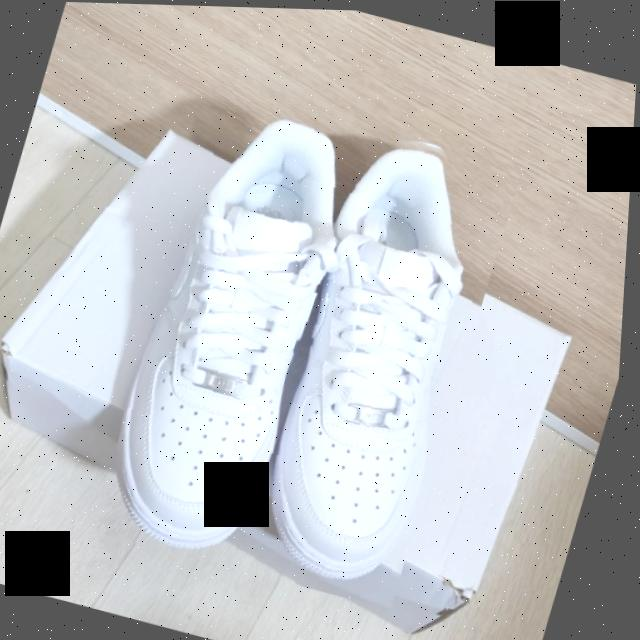shoe: (95, 77, 529, 609)
